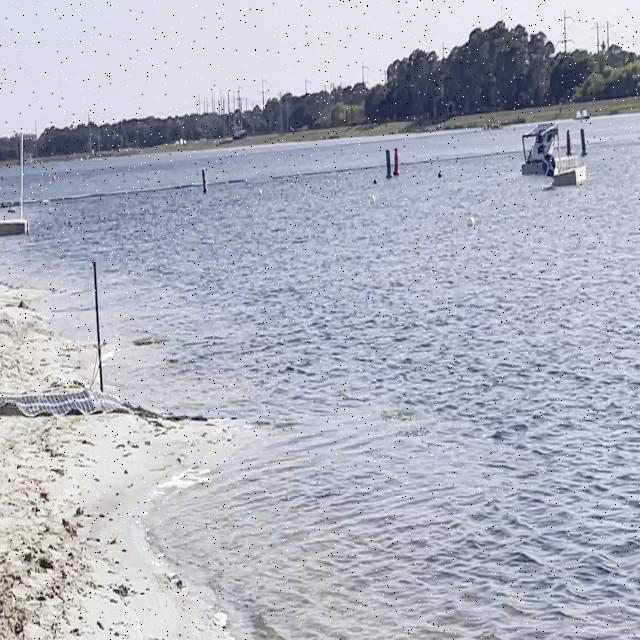buoy: (466, 215, 476, 230), (368, 194, 377, 207), (436, 170, 444, 180), (372, 178, 379, 187)
